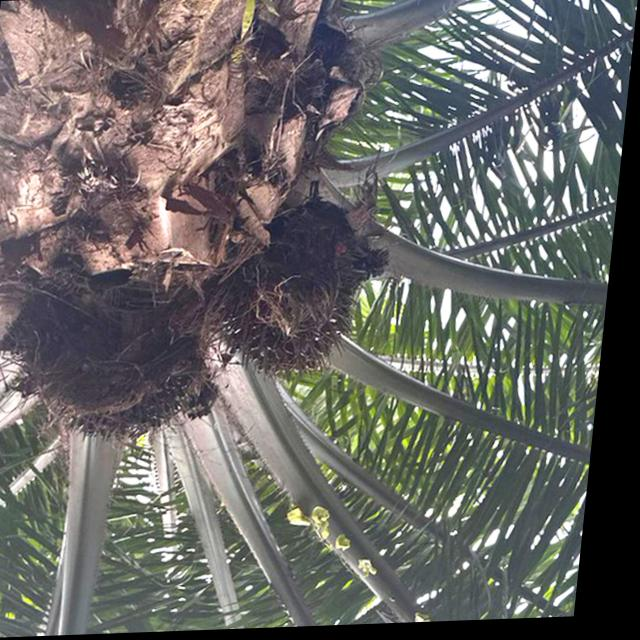ripe: (203, 184, 393, 401)
